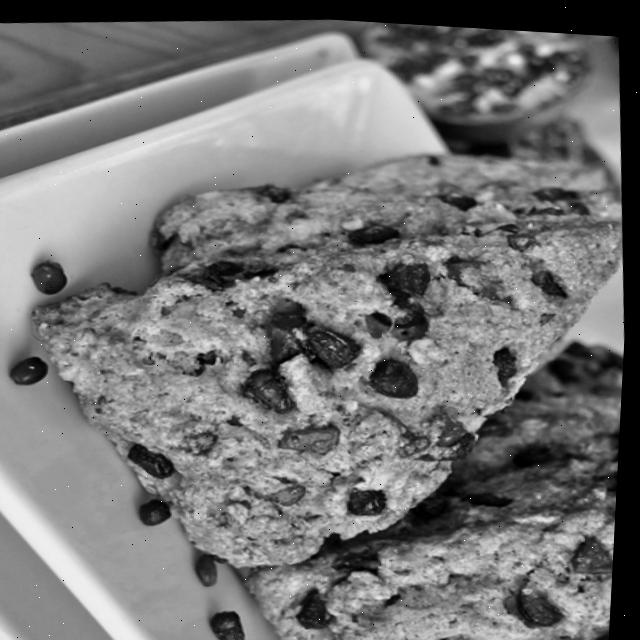面包点心: (0, 50, 638, 640)
